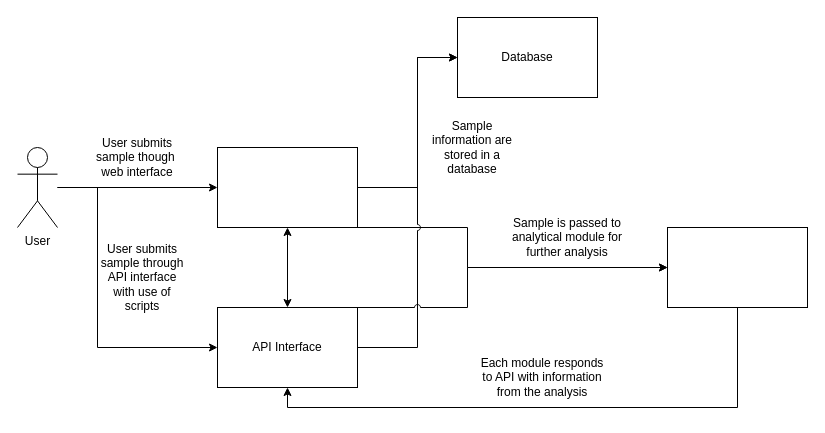
The diagram is 825 pixels wide and 433 high, and some of its shapes have lost their labels. Here are the shapes that lost their labels. From the top down, the centre of each, then its label:
[287,187]: Web interface
[737,267]: Analytical module
